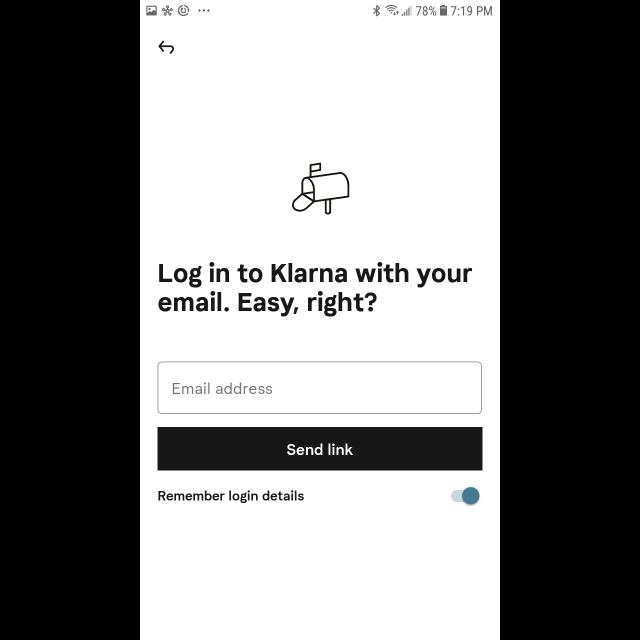icon: (158, 41, 174, 55)
image: (292, 163, 350, 215)
input: (158, 362, 482, 414)
switch: (450, 487, 480, 505)
text: (158, 262, 472, 318), (159, 491, 305, 504), (174, 382, 272, 394)
textbutton: (158, 428, 482, 470)
uppertaskbar: (140, 1, 500, 17)
